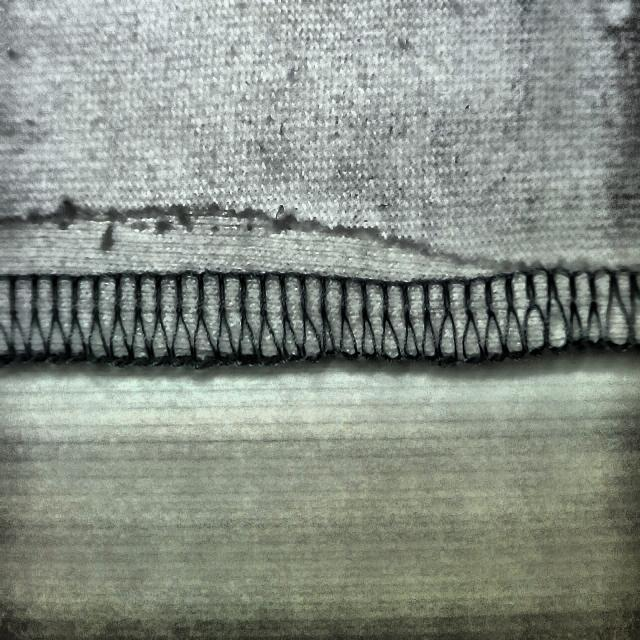gray stitch: (0, 173, 514, 367)
